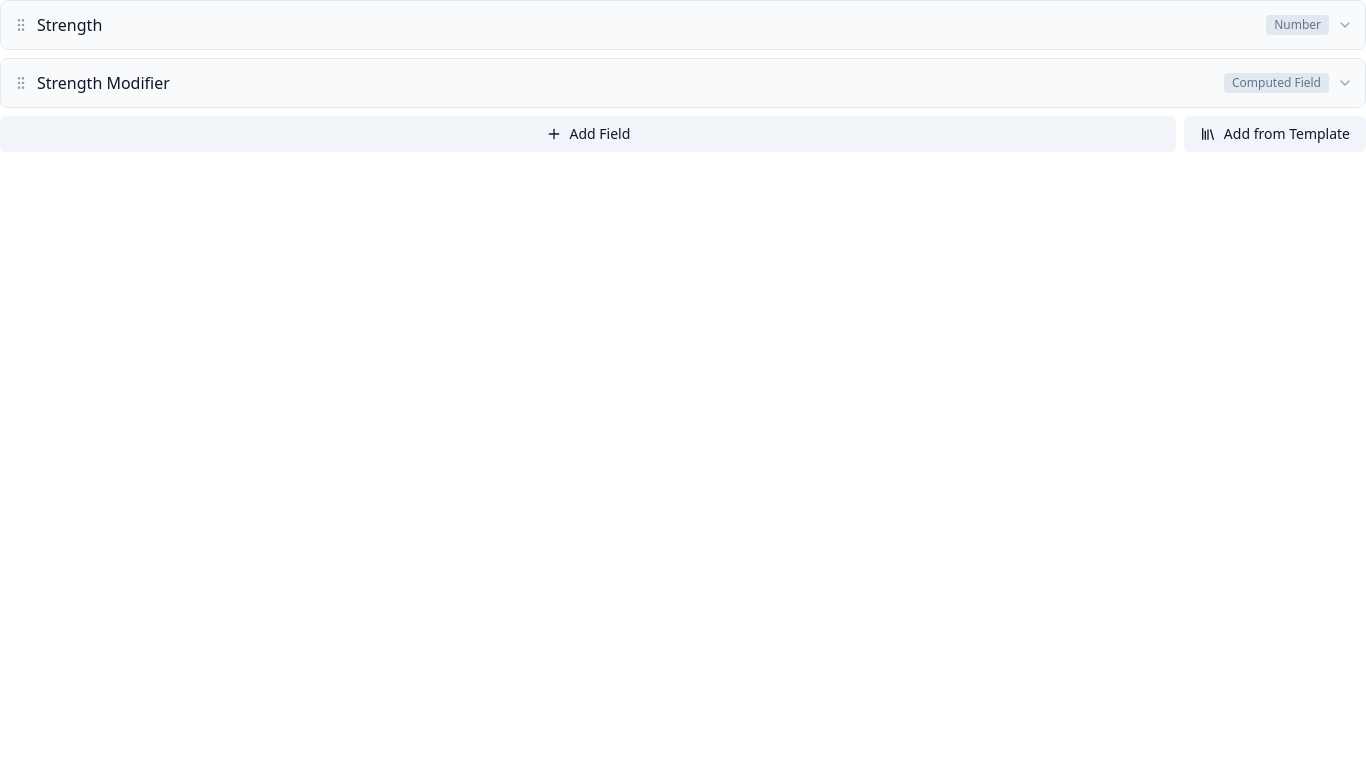
it: FieldDefinitionEditor - Computed Field Configuration (Issue #25 Phase 2) › Computed field type - formula editor › should show available fields picker for formula building
Click the text "Strength Modifier". click: (103, 83)
box: 37,72 -> 170,94
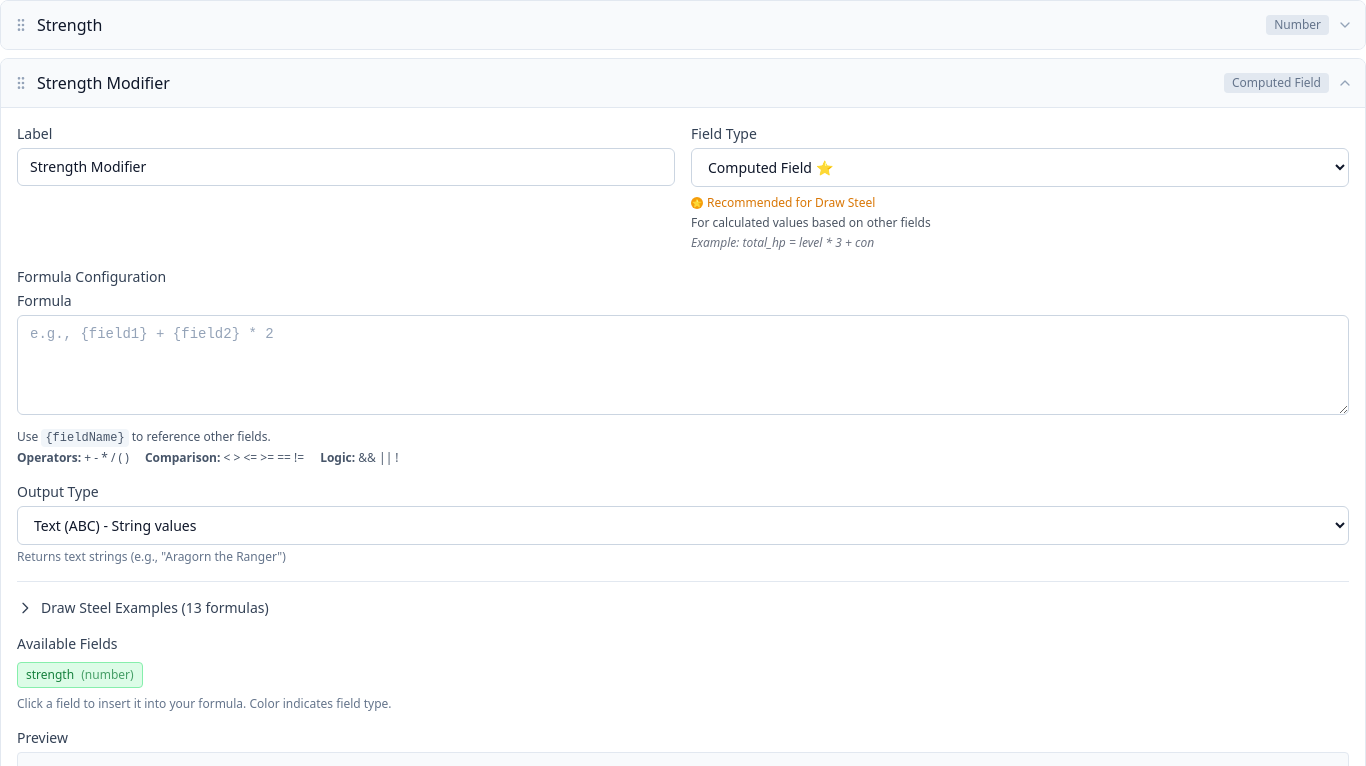
Result: the text "Formula Configuration" is shown at 17,267 -> 166,286
